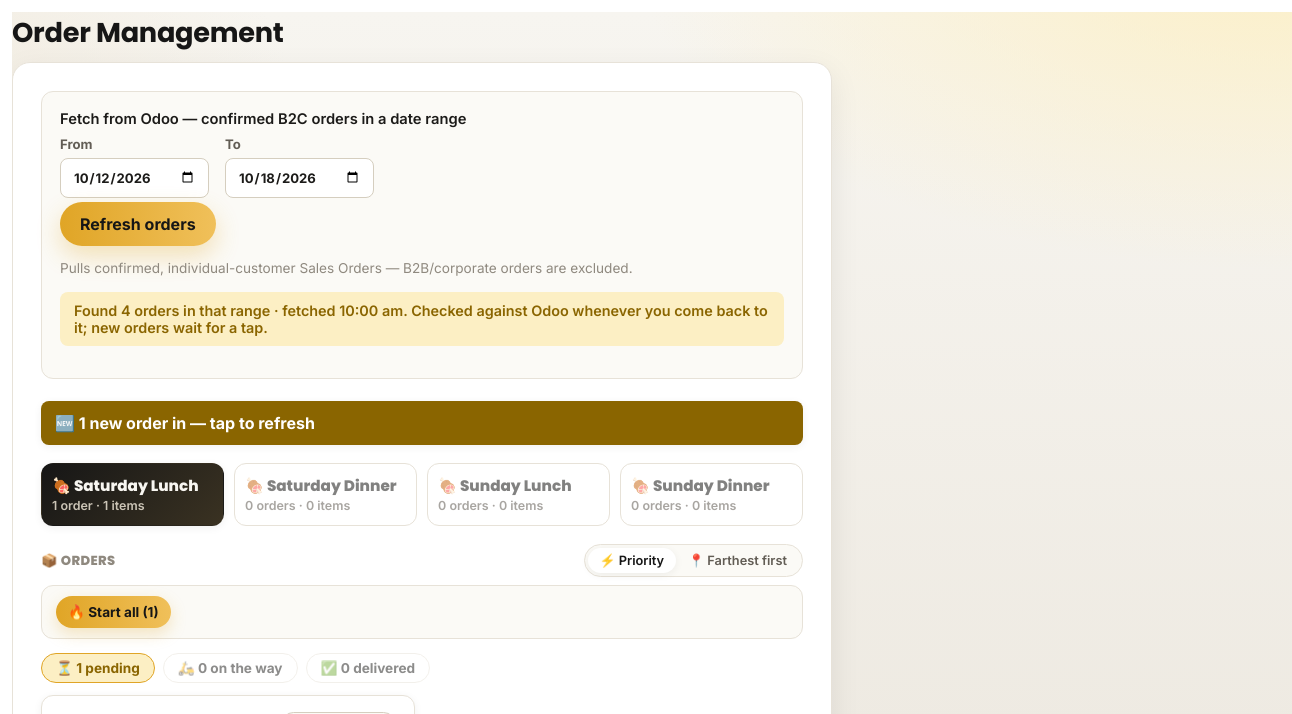
Test: a new order found on reopening waits behind a banner instead of reloading the board
The width and height of the screenshot is (1292, 714).
Check: the button with class "slot-picker-btn" that starts with "Saturday Lunch" is shown, box [41,463,224,526]
Click the button "🆕 1 new order in — tap to refresh".
click(185, 423)  # box [41,401,803,445]
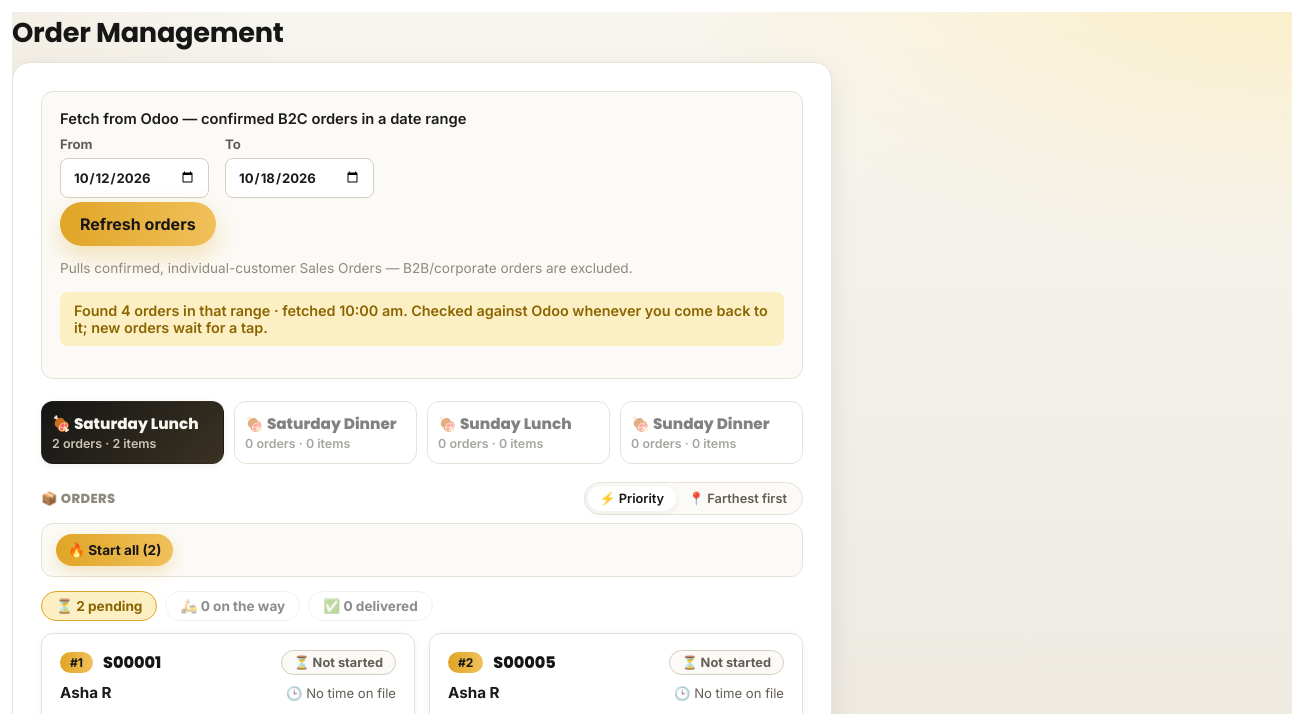
Check: the button "new order" is not shown
Check: the text "S00005" is shown, box [493,650,556,675]
